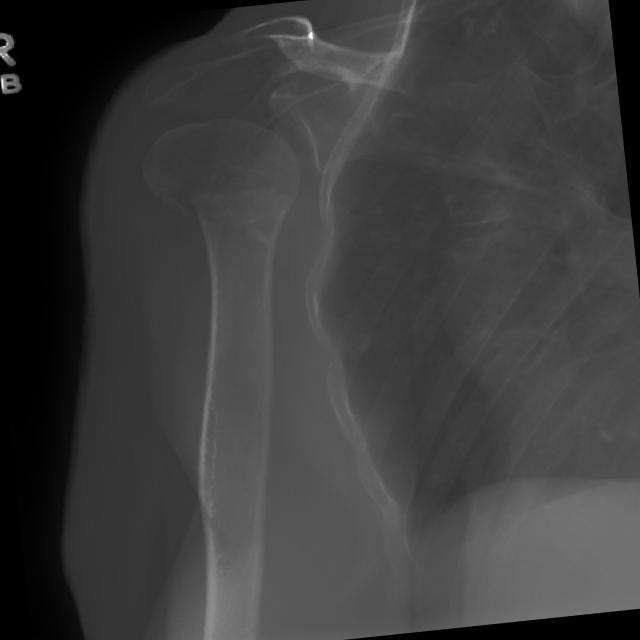shoulder fracture: (131, 161, 306, 292), (238, 0, 356, 92)
